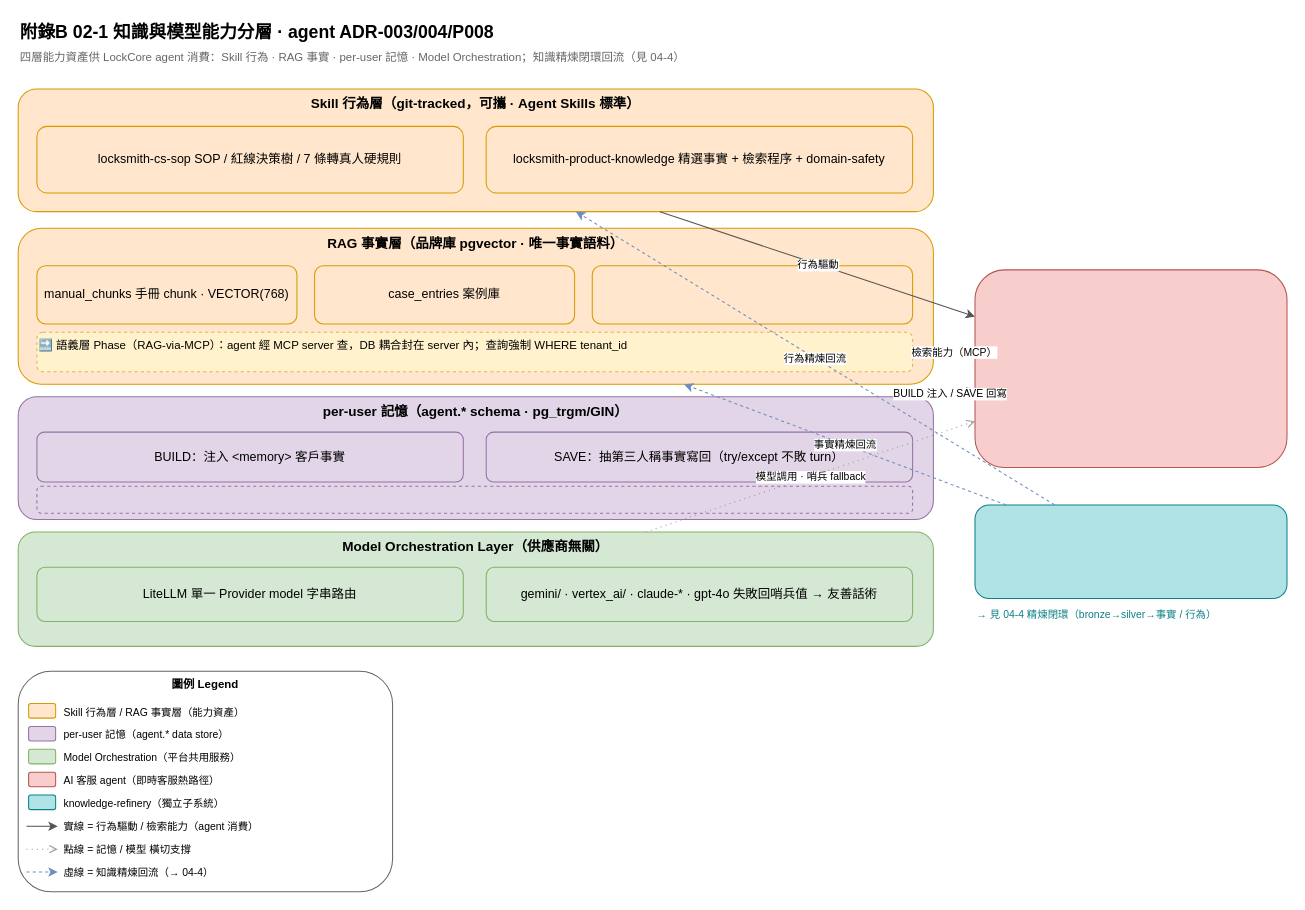
Image size: 1305x910. Some labels were removed from this diagram. The centre of each missing label's shape, as x and y in pixels:
"AI 客服 agent（LockCore） ContextBuilder → AgentRunner 漸進式揭露組 system prompt" belongs at [1130,368].
"knowledge-refinery 知識精煉 bronze-only 治理 · HITL gate" belongs at [1130,551].
"讀寫必帶 tenant + user_id，缺則 raise（default deny）" belongs at [474,499].
"逐型號事實 chunk 長尾檢索" belongs at [752,294].
